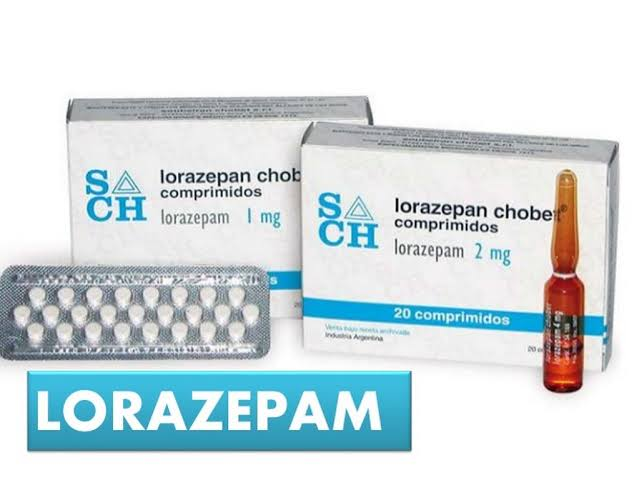Medicine: (304, 120, 620, 382), (60, 96, 306, 274), (546, 167, 583, 398)
